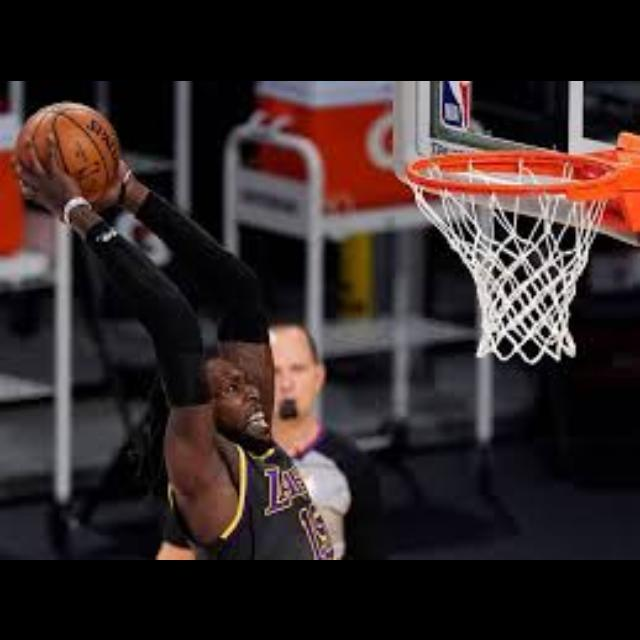basketball: (14, 101, 122, 210)
rim: (406, 152, 612, 362)
